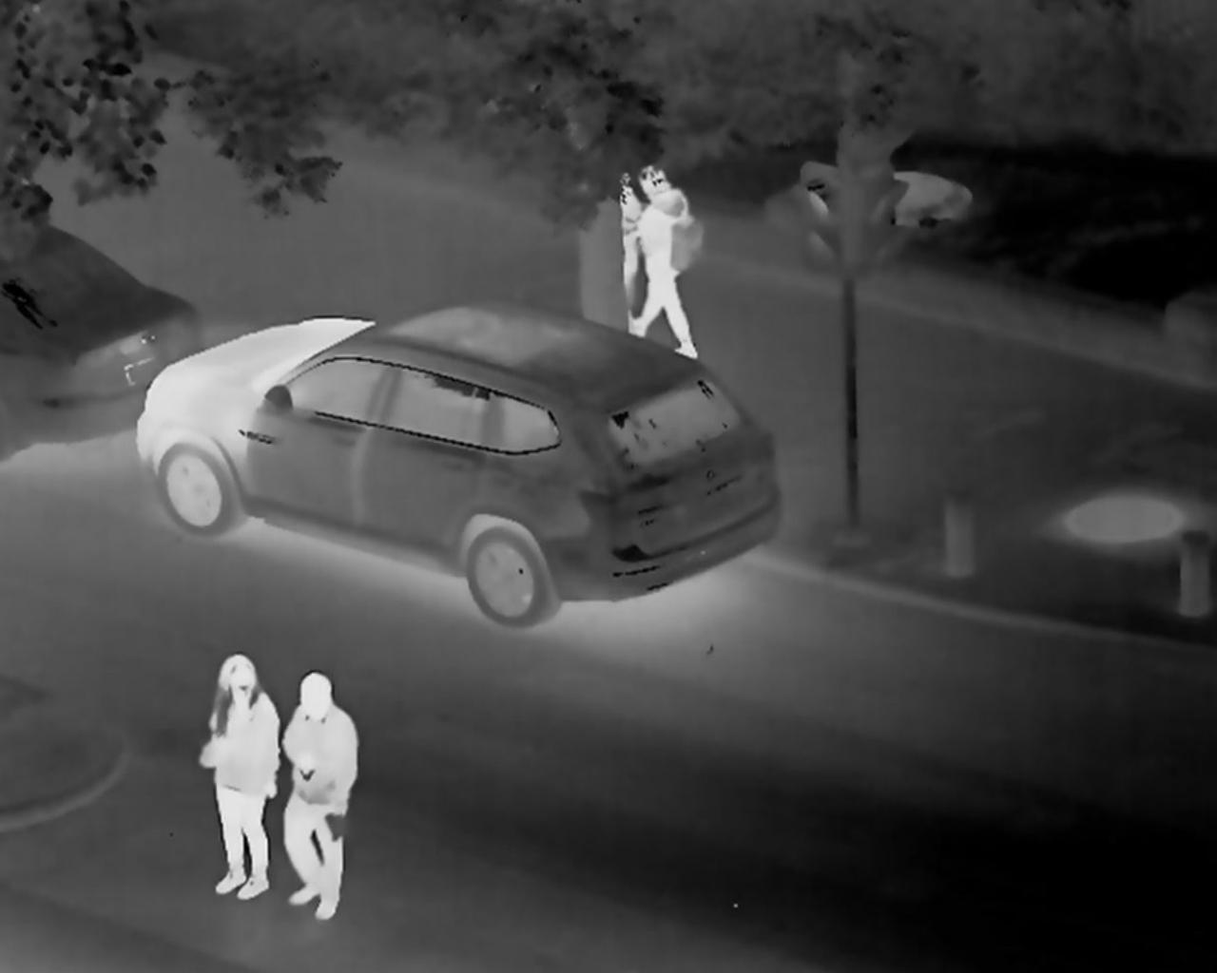person: (280, 663, 356, 924), (198, 655, 274, 901), (626, 159, 702, 363)
